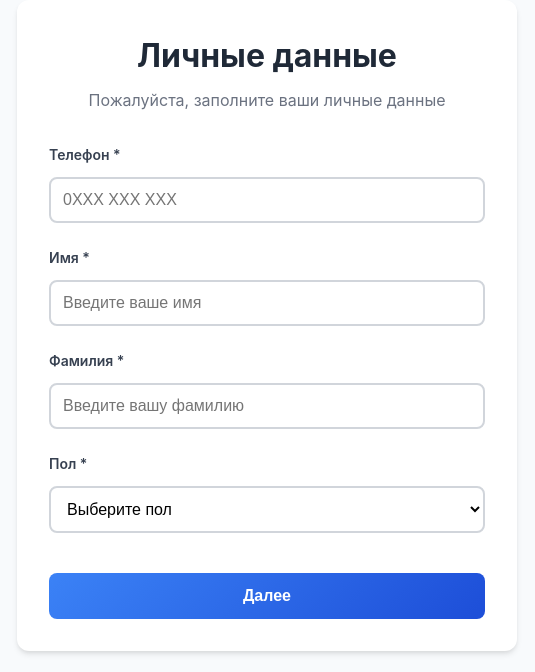
PersonalDataForm › должен форматировать номер телефона
Type "0123456789" into the field labelled "Телефон *". click: point(267, 200)
box: [49,177,485,223]
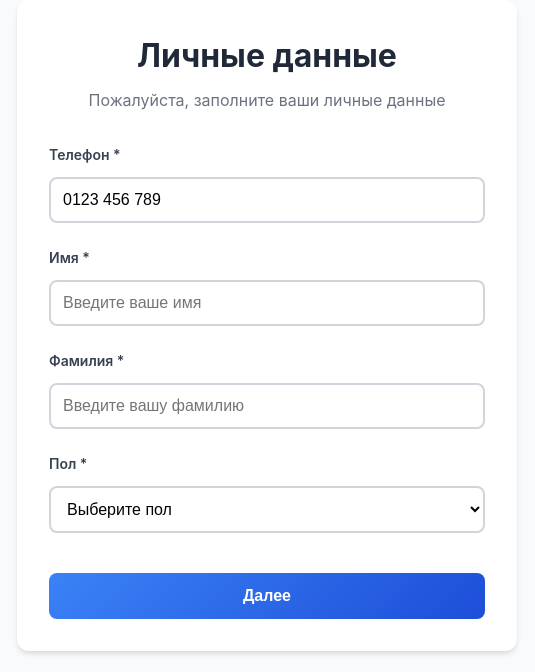
Expected: the field labelled "Телефон *" holds "0123 456 789", [49,177,485,223]
